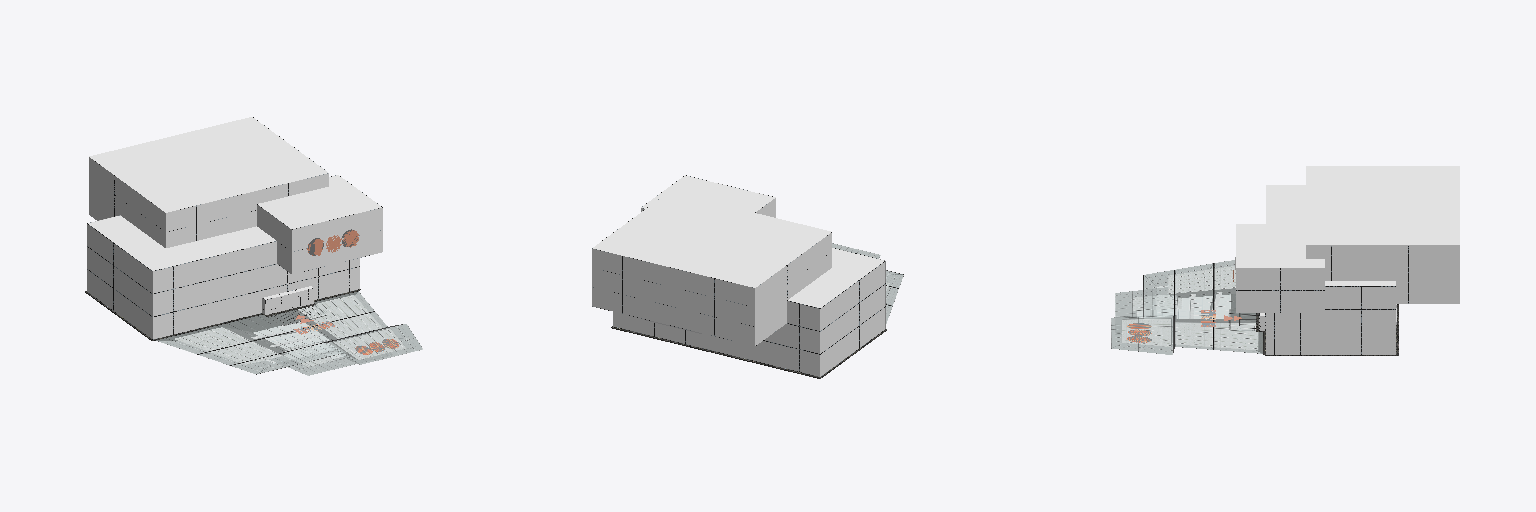
3 renders of one model, left to right at view 1: azimuth 30°, elevation 25°; view 2: azimuth 150°, elevation 25°; view 3: azimuth 270°, elevation 25°, orthographic.
Parts seen in each view (by area): view 1: Mesh336 Group46 Group44 Model, Mesh540 Group66 Model, Mesh324 Group34 Group12 Model, Mesh80 Group13 Group12 Model, Mesh342 Group49 Group44 Model, Mesh84 Group15 Group12 Model, Mesh72 Group9 Group2 Model, Mesh70 Group8 Group2 Model, Mesh338 Group47 Group44 Model, Mesh76 Group11 Group2 Model, Mesh647 Group94 door001_1 Model; view 2: Mesh336 Group46 Group44 Model, Mesh334 Group45 Group44 Model, Mesh82 Group14 Group12 Model, Mesh80 Group13 Group12 Model, Mesh338 Group47 Group44 Model, Mesh84 Group15 Group12 Model, Mesh70 Group8 Group2 Model, Mesh540 Group66 Model, Mesh1 Group1 Model; view 3: Mesh336 Group46 Group44 Model, Mesh540 Group66 Model, Mesh86 Group16 Group12 Model, Mesh340 Group48 Group44 Model, Mesh68 Group7 Group2 Model, Mesh70 Group8 Group2 Model, Mesh84 Group15 Group12 Model.
Part boxes in pixels (bbox=[...]): Mesh336 Group46 Group44 Model: bbox=[89, 117, 327, 212]; Mesh540 Group66 Model: bbox=[153, 290, 422, 375]; Mesh324 Group34 Group12 Model: bbox=[153, 241, 359, 338]; Mesh80 Group13 Group12 Model: bbox=[87, 224, 152, 338]; Mesh342 Group49 Group44 Model: bbox=[166, 173, 328, 247]; Mesh84 Group15 Group12 Model: bbox=[88, 216, 275, 270]; Mesh72 Group9 Group2 Model: bbox=[292, 208, 382, 273]; Mesh70 Group8 Group2 Model: bbox=[258, 175, 381, 228]; Mesh338 Group47 Group44 Model: bbox=[89, 157, 165, 247]; Mesh76 Group11 Group2 Model: bbox=[257, 205, 291, 273]; Mesh647 Group94 door001_1 Model: bbox=[266, 288, 313, 314]; Mesh336 Group46 Group44 Model: bbox=[593, 192, 830, 287]; Mesh334 Group45 Group44 Model: bbox=[592, 249, 754, 345]; Mesh82 Group14 Group12 Model: bbox=[613, 301, 819, 376]; Mesh80 Group13 Group12 Model: bbox=[820, 262, 884, 376]; Mesh338 Group47 Group44 Model: bbox=[755, 233, 831, 345]; Mesh84 Group15 Group12 Model: bbox=[788, 248, 883, 307]; Mesh70 Group8 Group2 Model: bbox=[641, 175, 775, 212]; Mesh540 Group66 Model: bbox=[832, 243, 903, 323]; Mesh1 Group1 Model: bbox=[611, 326, 886, 378]; Mesh336 Group46 Group44 Model: bbox=[1306, 166, 1459, 244]; Mesh540 Group66 Model: bbox=[1111, 260, 1264, 354]; Mesh86 Group16 Group12 Model: bbox=[1266, 287, 1395, 354]; Mesh340 Group48 Group44 Model: bbox=[1306, 245, 1459, 303]; Mesh68 Group7 Group2 Model: bbox=[1236, 268, 1324, 312]; Mesh70 Group8 Group2 Model: bbox=[1236, 224, 1324, 267]; Mesh84 Group15 Group12 Model: bbox=[1266, 185, 1395, 285].
Size of the model in its own units: 79.27 by 32.61 by 101.
17 materials, 5 textured.